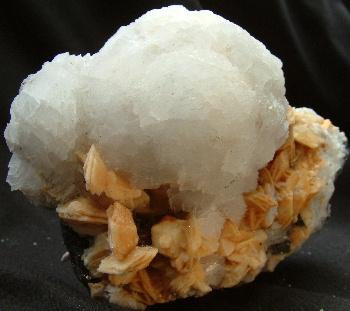calcite: (5, 5, 348, 288)
